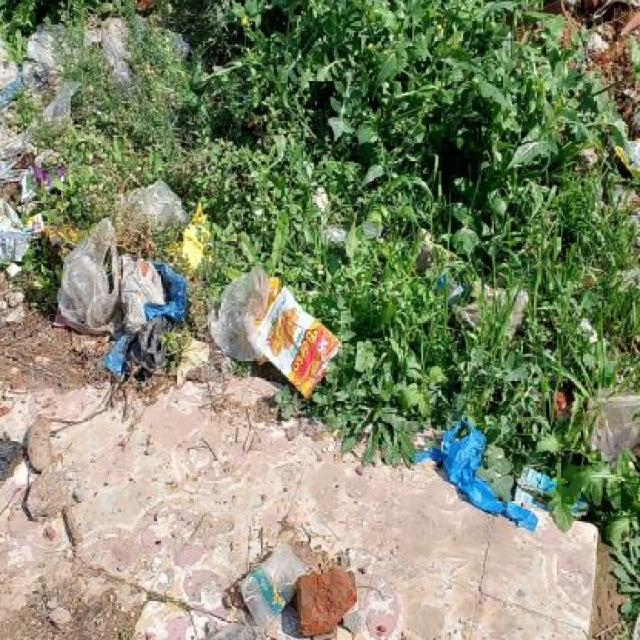garbage: (2, 35, 218, 412), (439, 425, 595, 545), (1, 414, 84, 557), (220, 533, 322, 640), (576, 3, 640, 80), (417, 234, 442, 261)
